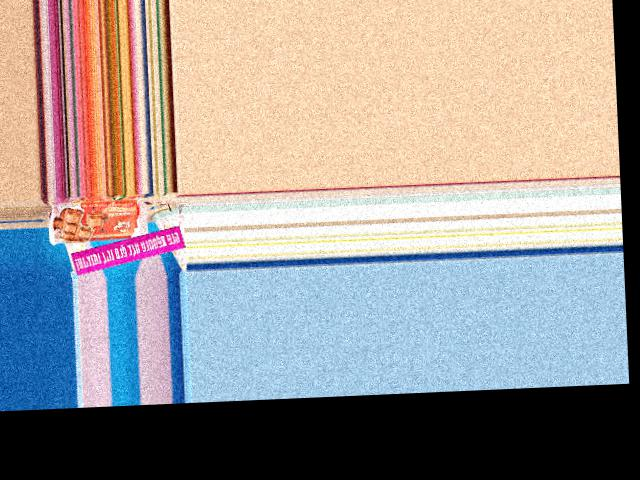chocolate: (45, 196, 150, 246)
